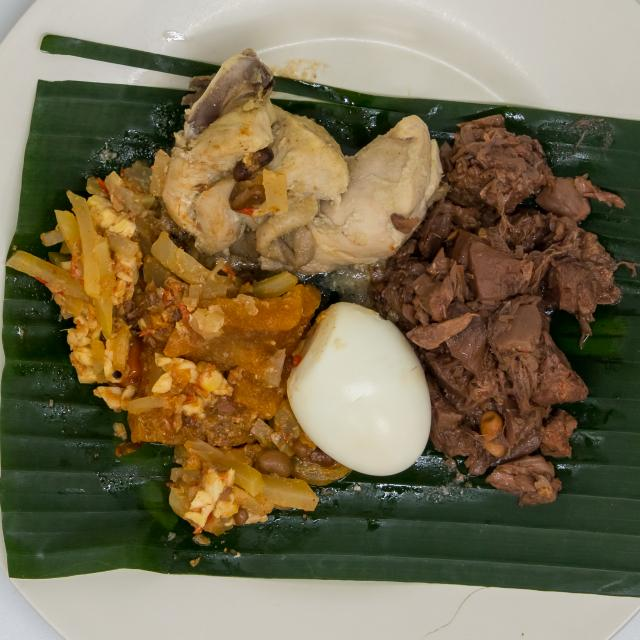Gudeg-Jogja: (15, 63, 615, 554)
